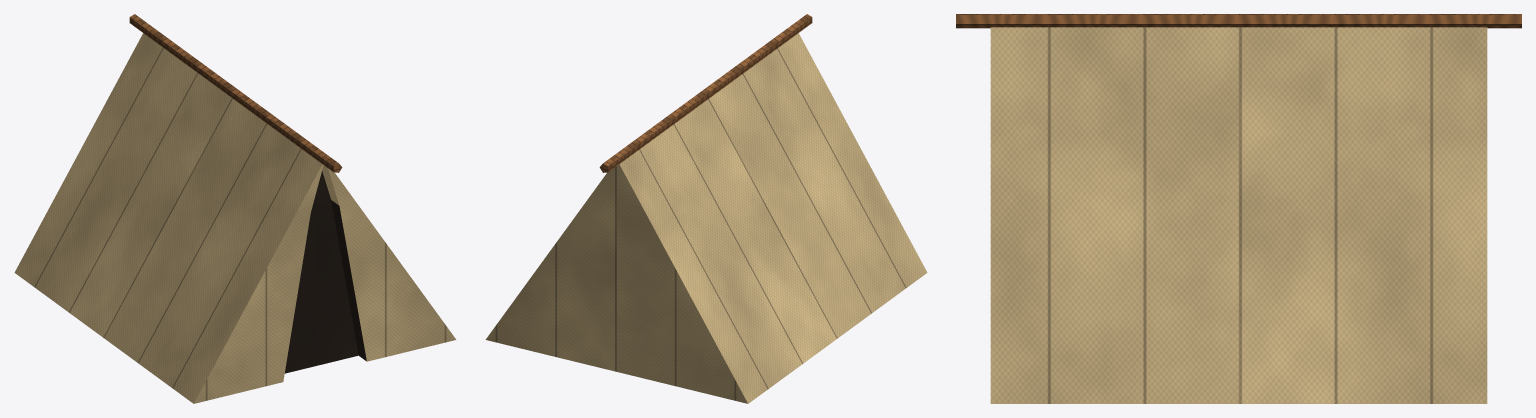
File: Tent.glb
3 renders of one model, left to right at view 1: azimuth 30°, elevation 25°; view 2: azimuth 150°, elevation 25°; view 3: azimuth 270°, elevation 25°, orthographic. The views are drawn at different scales.
Visible parts, largest first — view 1: Tent; view 2: Tent; view 3: Tent.
Part boxes in pixels (x1,y1,x2,y2): Tent: (14,14,456,403); Tent: (485,14,927,403); Tent: (956,14,1521,403).
Size of the model in its own units: 2.2 by 1.74 by 2.96.
Materials: 3 (3 with a texture image).
